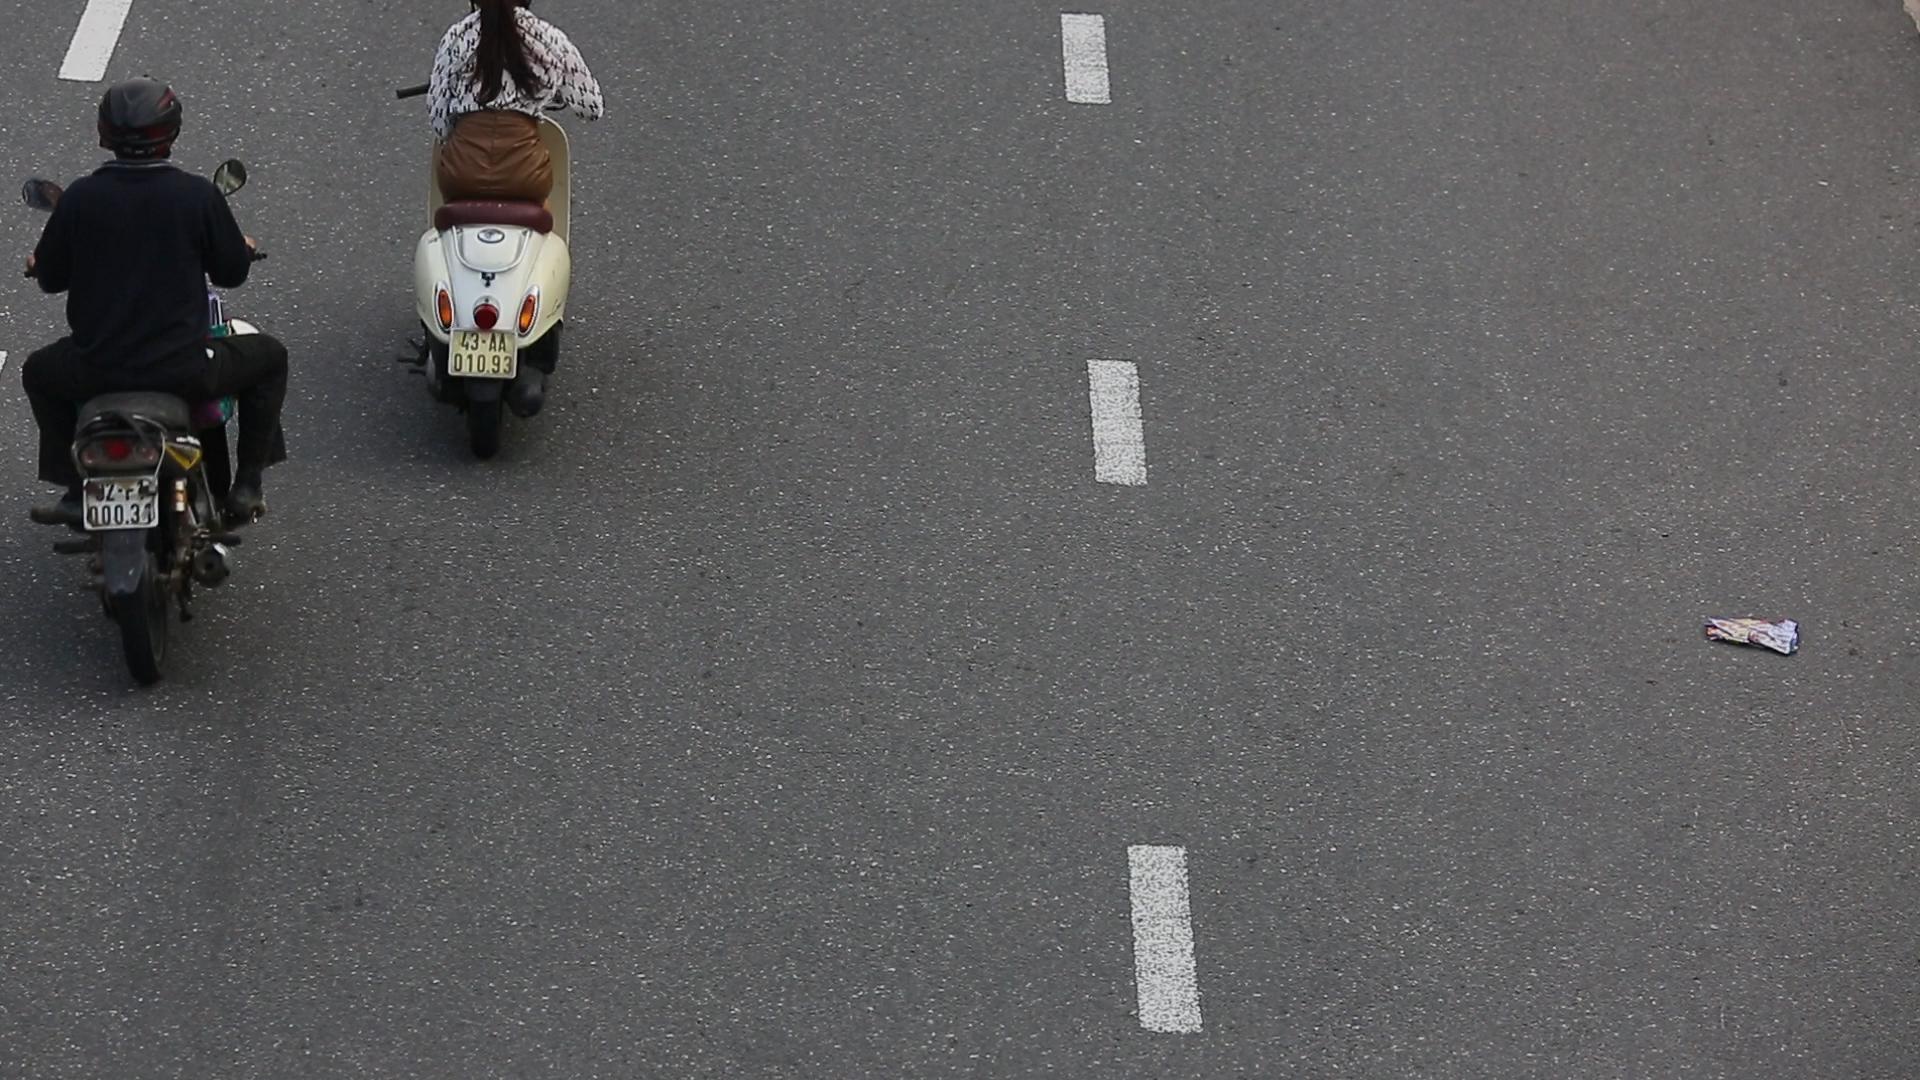motobike: (0, 51, 318, 691)
